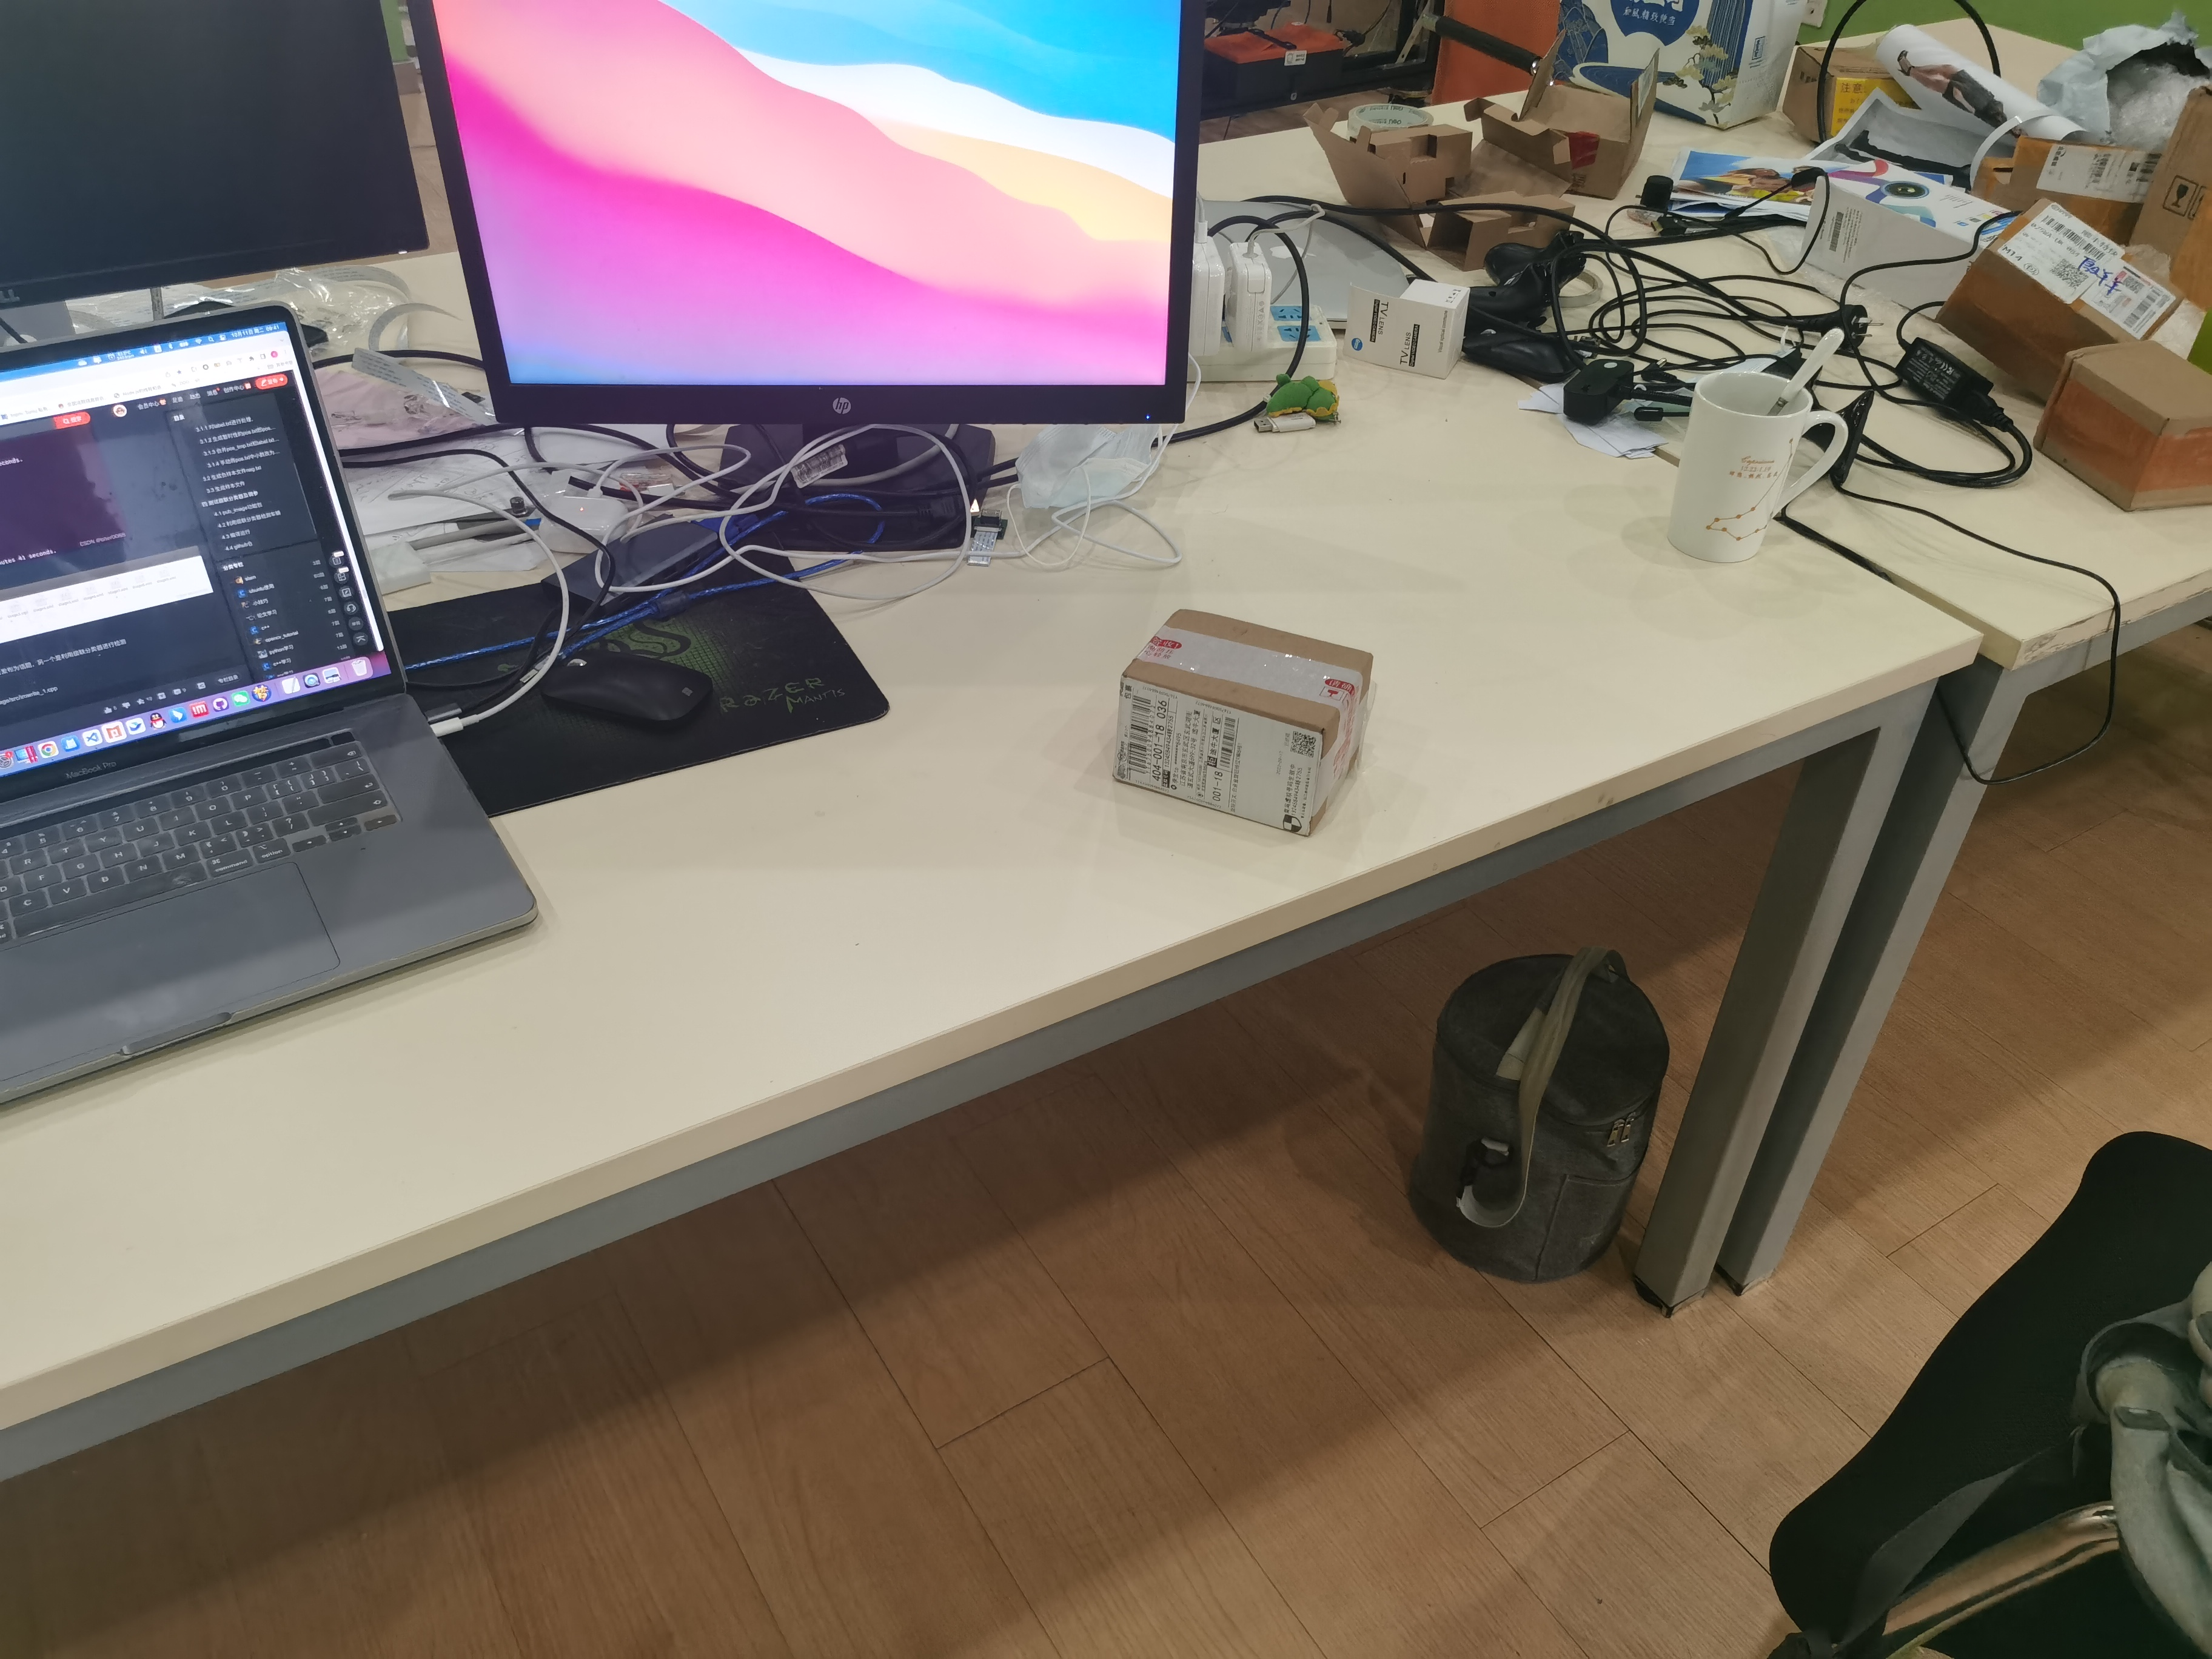box: (1104, 606, 1381, 842)
